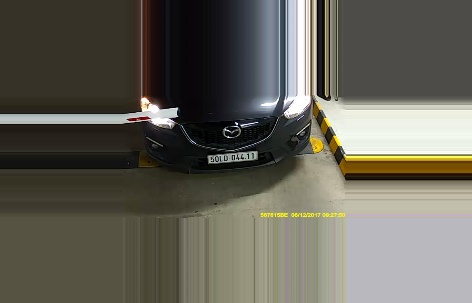plate: (207, 150, 258, 163)
